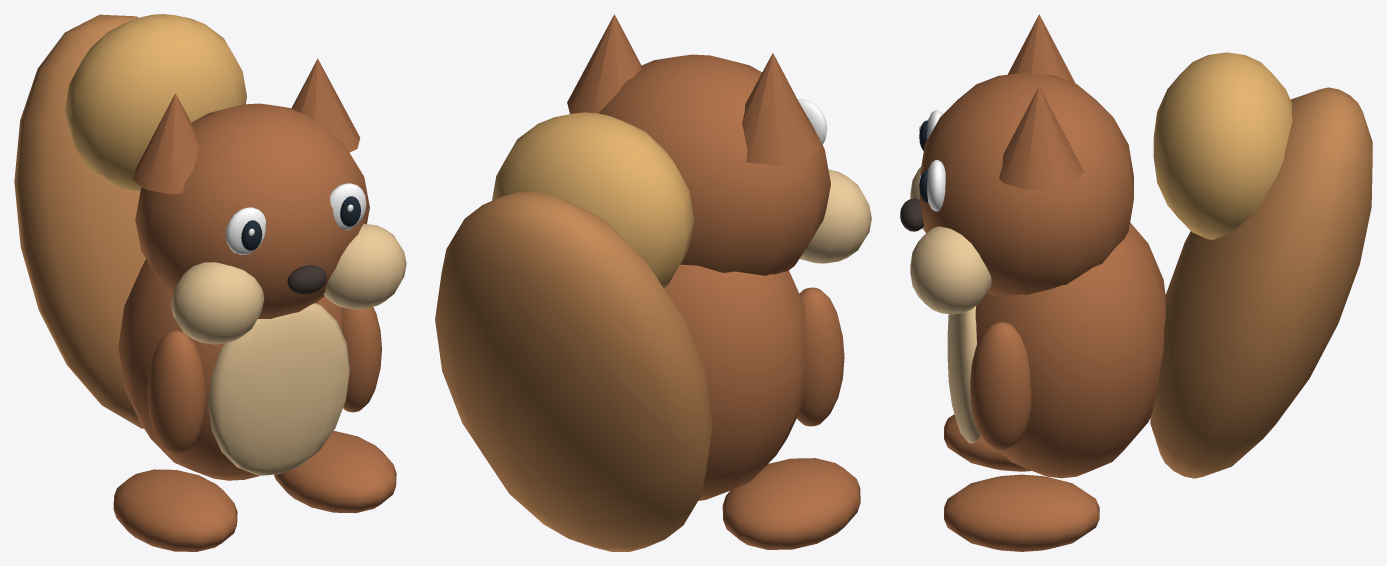
3 renders of one model, left to right at view 1: azimuth 30°, elevation 25°; view 2: azimuth 150°, elevation 25°; view 3: azimuth 270°, elevation 25°, orthographic. The views are drawn at different scales.
Parts seen in each view (by area): view 1: creature_16; view 2: creature_16; view 3: creature_16.
Boxes of the visible parts, bbox=[...] form: creature_16: bbox=[14, 14, 406, 551]; creature_16: bbox=[435, 14, 871, 551]; creature_16: bbox=[900, 14, 1372, 551].
Size of the model in its own units: 0.62 by 1 by 0.9458.
